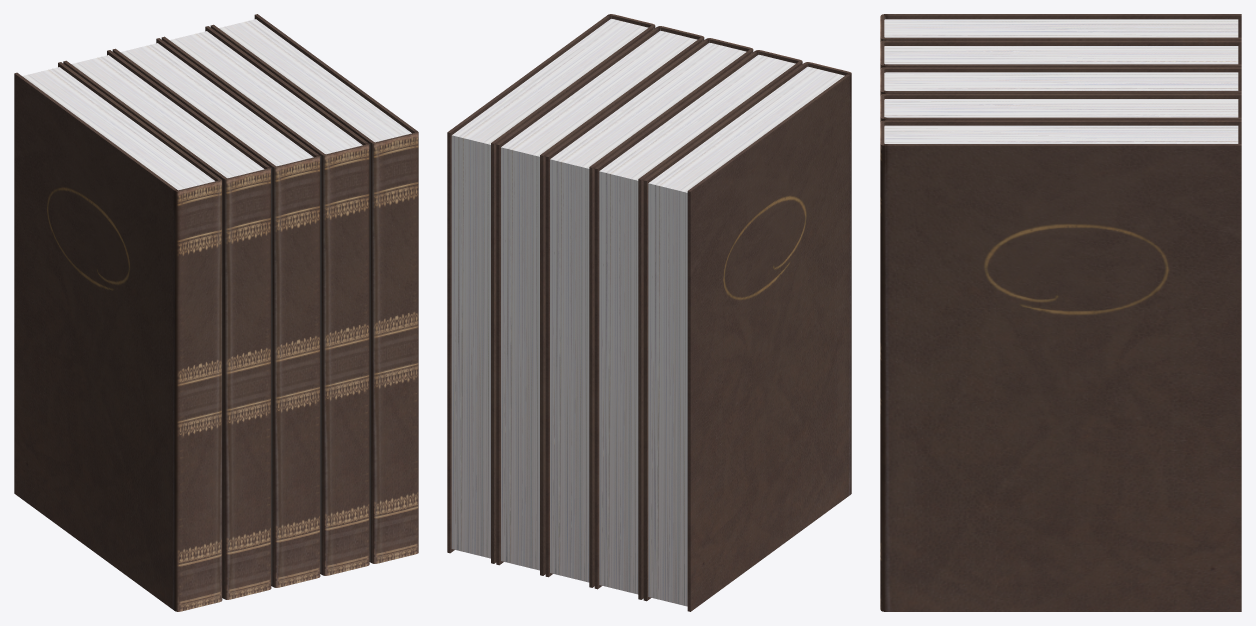
The model's file is RetroBooks01_2_5x.FBX.
The picture shows the model from 3 angles, left to right: view 1: azimuth 30°, elevation 25°; view 2: azimuth 150°, elevation 25°; view 3: azimuth 270°, elevation 25°; orthographic projection. The views are drawn at different scales.
Visible parts, largest first — view 1: RetroBooks01_2_5x; view 2: RetroBooks01_2_5x; view 3: RetroBooks01_2_5x.
Boxes of the visible parts, x1,y1,x2,y2 form: RetroBooks01_2_5x: (14, 14, 418, 611); RetroBooks01_2_5x: (447, 14, 851, 611); RetroBooks01_2_5x: (880, 14, 1241, 611).
Bounding box in the file's own units: 1.37 × 2.26 × 1.59.
